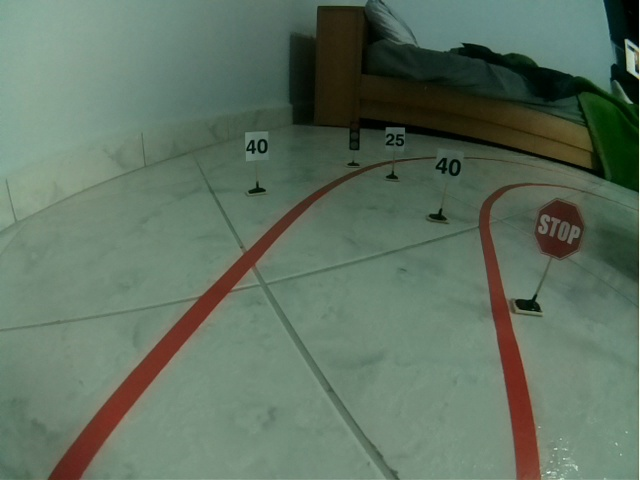Red Traffic Light: (348, 120, 361, 151)
Speed Limit 25: (385, 127, 405, 152)
Speed Limit 40: (434, 150, 463, 185), (245, 133, 269, 161)
Stop: (533, 197, 586, 262)
